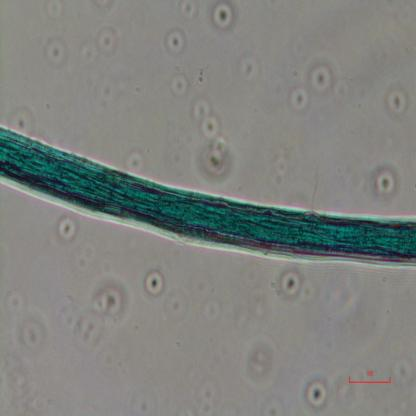Background material: (67, 280, 131, 350), (193, 92, 236, 184), (5, 290, 49, 357), (288, 58, 336, 115), (0, 353, 49, 403), (77, 72, 124, 121), (257, 147, 305, 191), (80, 25, 122, 63), (300, 370, 336, 414), (0, 96, 37, 134), (205, 0, 240, 37), (247, 339, 276, 383), (163, 282, 191, 327), (387, 344, 416, 387), (188, 373, 217, 414), (370, 165, 400, 204), (277, 267, 306, 304), (202, 290, 228, 328), (233, 54, 262, 85), (386, 86, 412, 120), (44, 37, 70, 70), (144, 268, 168, 300), (164, 27, 187, 60), (128, 143, 146, 177), (57, 214, 78, 243), (262, 394, 284, 415), (170, 72, 187, 99), (179, 1, 202, 20), (45, 0, 64, 21), (194, 67, 209, 85)
Microfibre: (0, 124, 416, 271)
